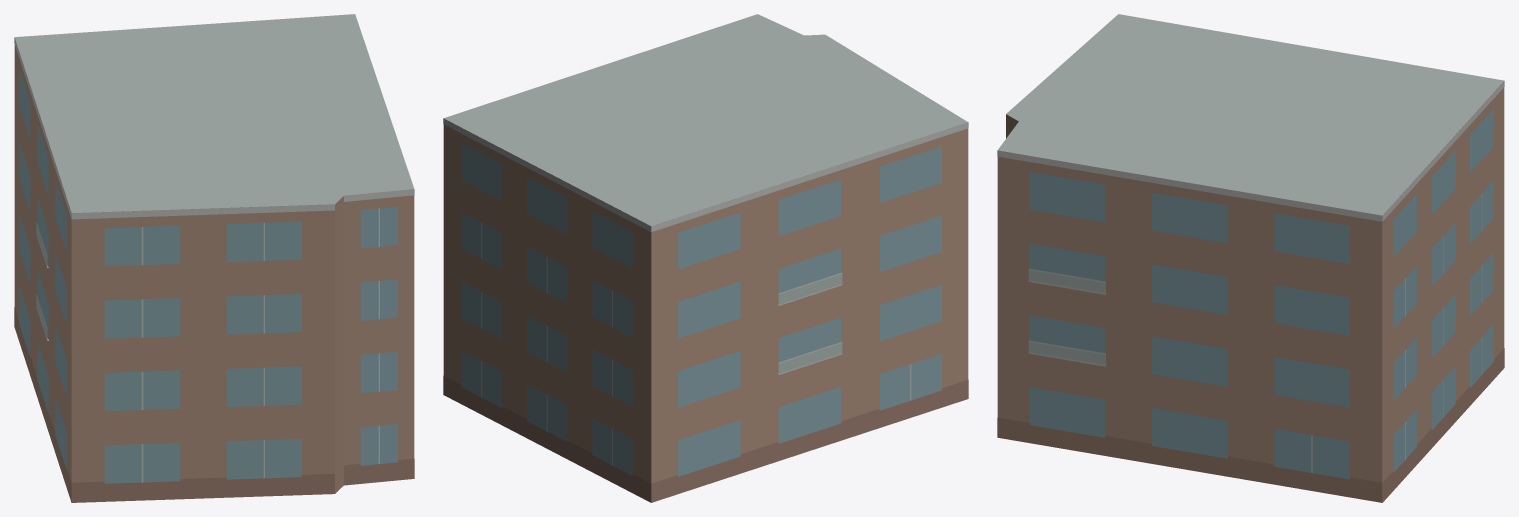
The model's file is survey-upis-32524510.glb.
3 renders of one model, left to right at view 1: azimuth 30°, elevation 25°; view 2: azimuth 150°, elevation 25°; view 3: azimuth 270°, elevation 25°, orthographic. The views are drawn at different scales.
Visible parts, largest first — view 1: survey-upis-32524510.tmp; view 2: survey-upis-32524510.tmp; view 3: survey-upis-32524510.tmp.
Part boxes in pixels (left/top/right/bottom): survey-upis-32524510.tmp: left=14, top=14, right=414, bottom=502; survey-upis-32524510.tmp: left=443, top=14, right=968, bottom=502; survey-upis-32524510.tmp: left=997, top=14, right=1504, bottom=502.
Bounding box in the file's own units: 17.02 × 11.3 × 18.09.
